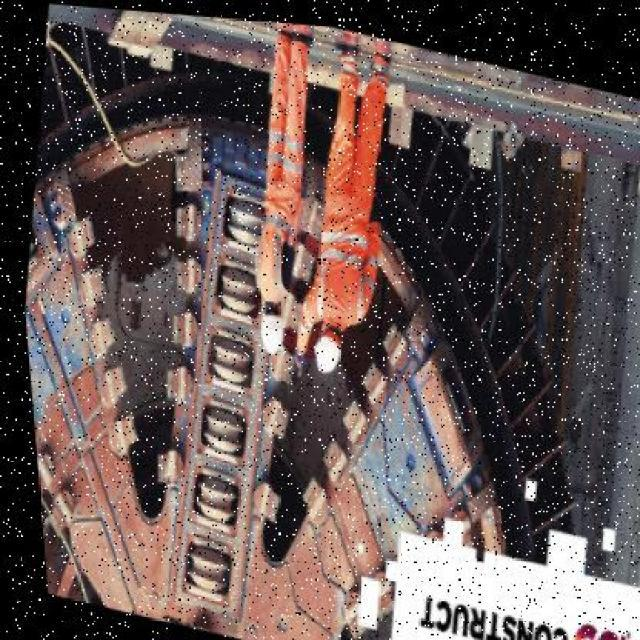helmet: (300, 314, 342, 376), (245, 289, 286, 351)
vest: (291, 185, 380, 333), (237, 159, 311, 306)
